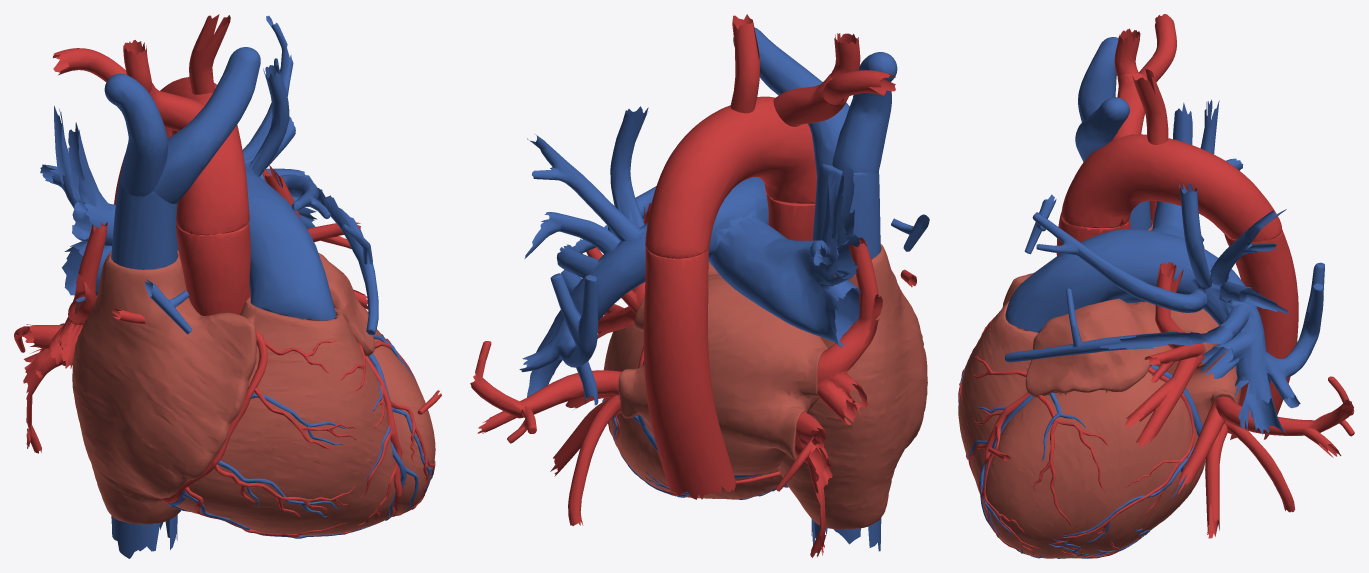
File: heart.glb
The picture shows the model from 3 angles, left to right: view 1: azimuth 30°, elevation 25°; view 2: azimuth 150°, elevation 25°; view 3: azimuth 270°, elevation 25°; orthographic projection. The views are drawn at different scales.
Visible parts, largest first — view 1: Heart_wall, Pulmonary_arteries, Venae_cavae, Aorta_and_arch_branches, Pulmonary_veins, Coronary_arteries, Cardiac_veins; view 2: Heart_wall, Aorta_and_arch_branches, Pulmonary_arteries, Pulmonary_veins, Venae_cavae, Cardiac_veins; view 3: Heart_wall, Pulmonary_arteries, Aorta_and_arch_branches, Pulmonary_veins, Venae_cavae, Coronary_arteries, Cardiac_veins.
Boxes of the visible parts, <box> form: Heart_wall: <box>60,250,435,535</box>; Pulmonary_arteries: <box>40,15,378,334</box>; Venae_cavae: <box>104,47,260,558</box>; Aorta_and_arch_branches: <box>53,14,250,315</box>; Pulmonary_veins: <box>14,164,441,453</box>; Coronary_arteries: <box>161,330,435,536</box>; Cardiac_veins: <box>167,334,433,538</box>; Heart_wall: <box>603,244,927,529</box>; Aorta_and_arch_branches: <box>643,14,895,499</box>; Pulmonary_arteries: <box>519,106,929,405</box>; Pulmonary_veins: <box>470,202,916,557</box>; Venae_cavae: <box>733,27,897,551</box>; Cardiac_veins: <box>602,360,788,499</box>; Heart_wall: <box>958,220,1241,558</box>; Pulmonary_arteries: <box>1004,99,1324,434</box>; Aorta_and_arch_branches: <box>1056,14,1298,439</box>; Pulmonary_veins: <box>988,200,1354,538</box>; Venae_cavae: <box>1075,37,1151,229</box>; Coronary_arteries: <box>958,317,1195,558</box>; Cardiac_veins: <box>958,365,1202,558</box>.
Size of the model in its own units: 1.29 by 2 by 1.59.
